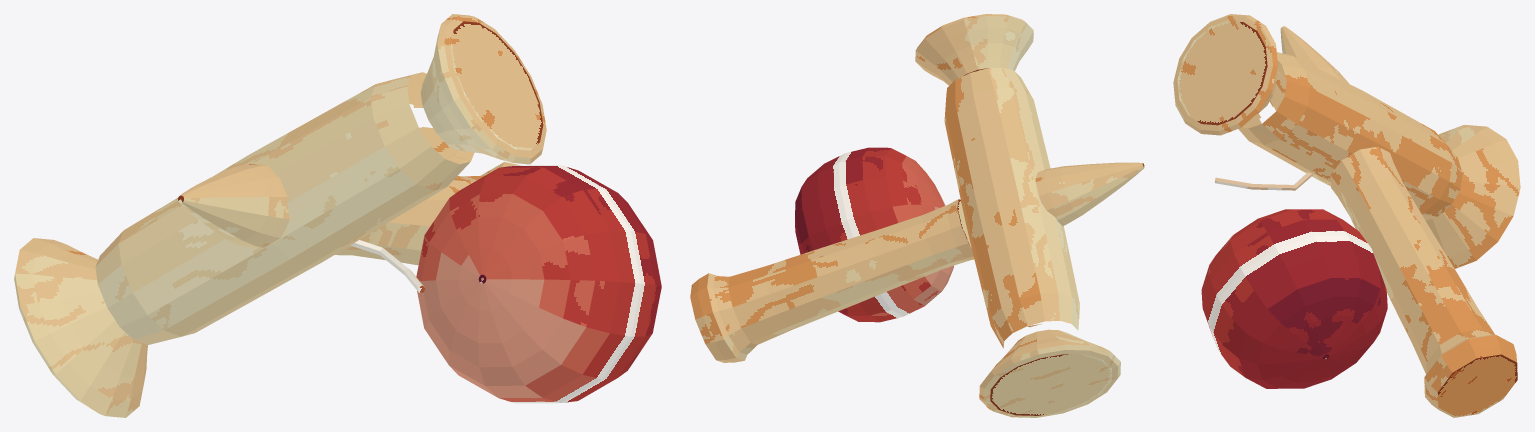
Rendered from kendama.glb.
3 renders of one model, left to right at view 1: azimuth 30°, elevation 25°; view 2: azimuth 150°, elevation 25°; view 3: azimuth 270°, elevation 25°, orthographic. The views are drawn at different scales.
Visible parts, largest first — view 1: ball, cross, cup_big, cup_small, spike, handle, string; view 2: cross, handle, ball, cup_big, cup_small, spike; view 3: ball, handle, cross, cup_small, cup_big, spike, string.
Part boxes in pixels (bbox=[...]): ball: bbox=[416, 165, 661, 403]; cross: bbox=[95, 72, 474, 344]; cup_big: bbox=[14, 238, 147, 417]; cup_small: bbox=[420, 14, 546, 164]; spike: bbox=[178, 164, 289, 248]; handle: bbox=[335, 162, 520, 265]; string: bbox=[350, 240, 425, 292]; cross: bbox=[944, 67, 1079, 348]; handle: bbox=[690, 199, 974, 362]; ball: bbox=[795, 147, 953, 322]; cup_big: bbox=[979, 329, 1120, 417]; cup_small: bbox=[915, 14, 1033, 85]; spike: bbox=[1035, 162, 1144, 225]; ball: bbox=[1201, 209, 1387, 388]; handle: bbox=[1330, 146, 1517, 417]; cross: bbox=[1238, 52, 1462, 220]; cup_small: bbox=[1173, 14, 1277, 135]; cup_big: bbox=[1426, 125, 1520, 268]; spike: bbox=[1280, 26, 1348, 83]; string: bbox=[1215, 172, 1312, 190].
Size of the model in its own units: 35.71 by 25.83 by 25.31.
1 material, 1 textured.
